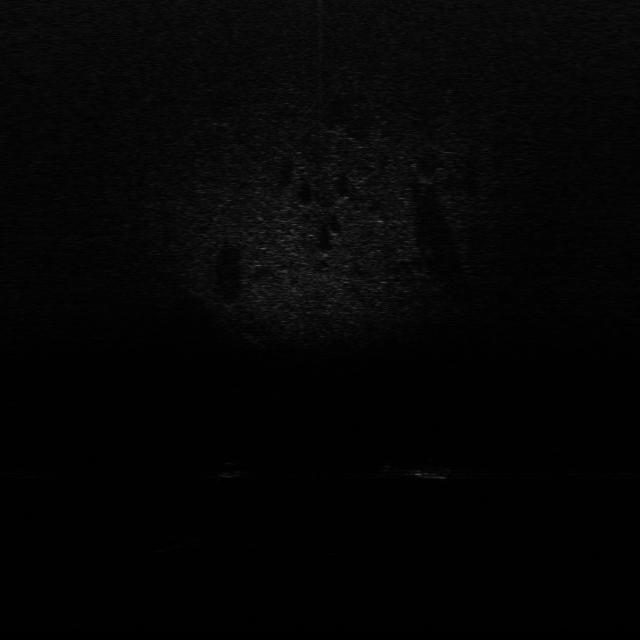ball: (210, 458, 244, 481)
human body: (373, 458, 466, 486)
